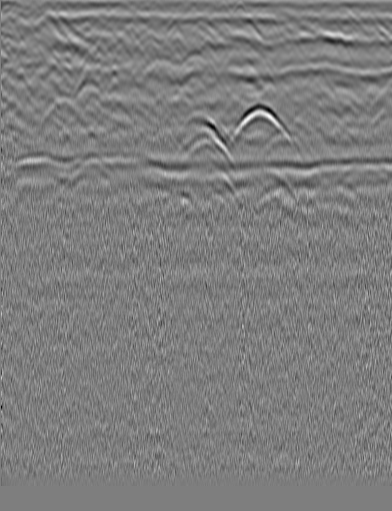가스: (1, 145, 391, 188)
